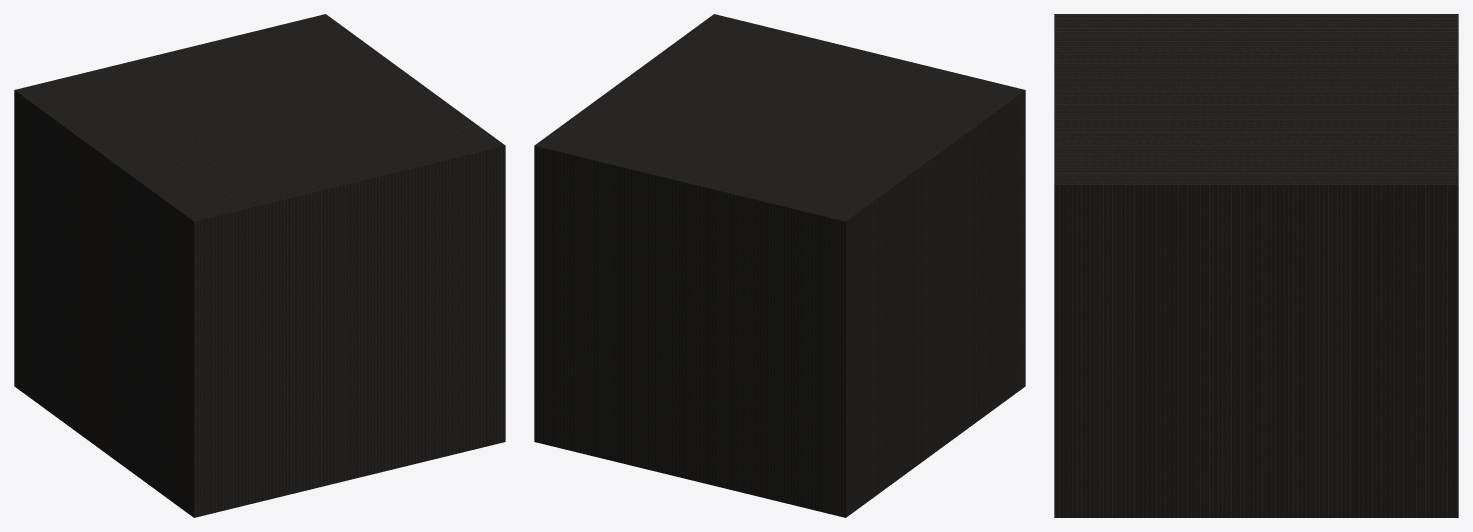
File: Temple_brush.glb
3 views of the same model, side by side, from view 1: azimuth 30°, elevation 25°; view 2: azimuth 150°, elevation 25°; view 3: azimuth 270°, elevation 25° (orthographic). The views are drawn at different scales.
Visible parts, largest first — view 1: Temple; view 2: Temple; view 3: Temple.
Boxes of the visible parts, x1,y1,x2,y2 form: Temple: [14, 14, 505, 517]; Temple: [534, 14, 1025, 517]; Temple: [1054, 14, 1458, 517].
Bounding box in the file's own units: 11746 × 10668 × 11746.
Materials: 9 (9 with a texture image).
